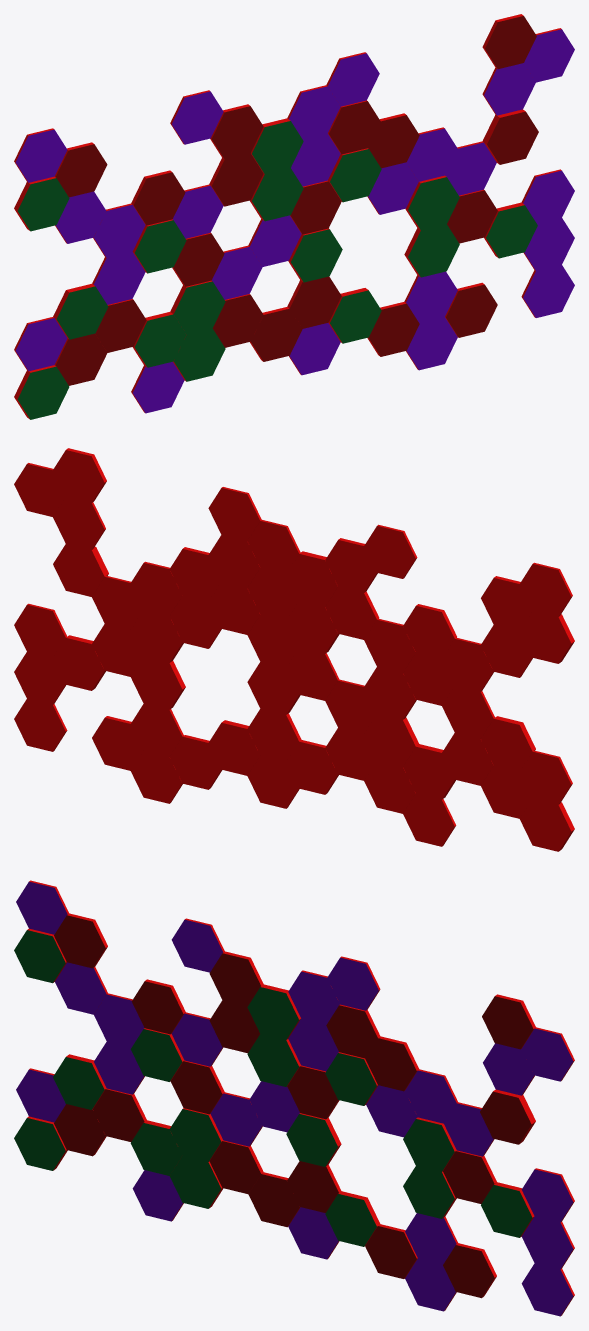
File: hex.fbx
3 renders of one model, top to bottom at view 1: azimuth 30°, elevation 25°; view 2: azimuth 150°, elevation 25°; view 3: azimuth 330°, elevation 25°, orthographic.
Parts seen in each view (by area): view 1: Circle.001; view 2: Circle.001; view 3: Circle.001.
Boxes of the visible parts, x1,y1,x2,y2 form: Circle.001: (14,14,574,419); Circle.001: (14,448,574,851); Circle.001: (14,880,574,1316).
Size of the model in its own units: 189 by 106 by 2.63.
